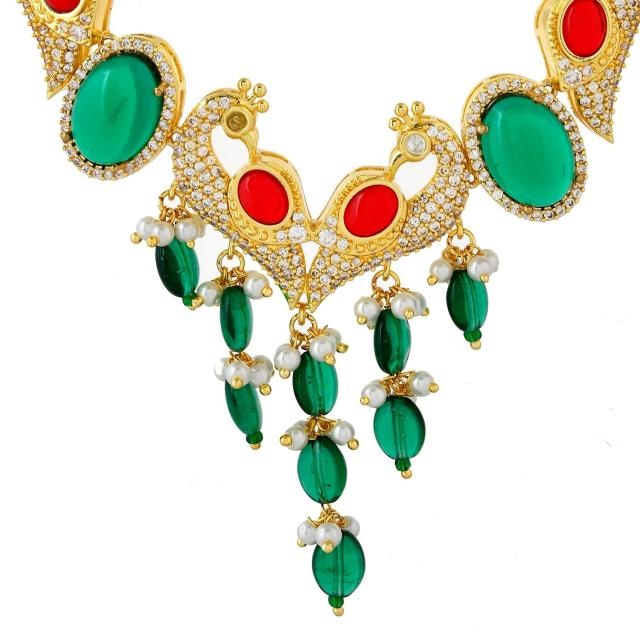missing gem: (226, 112, 248, 132)
